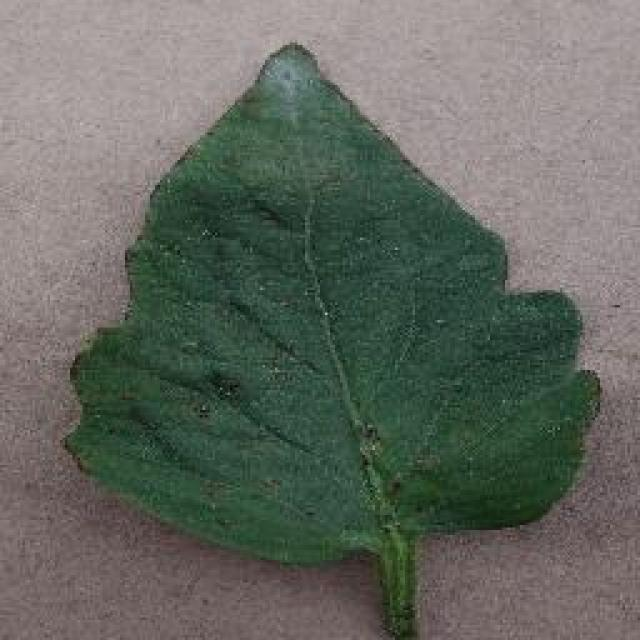Tom_Bacterial_spot: (338, 398, 462, 538)
